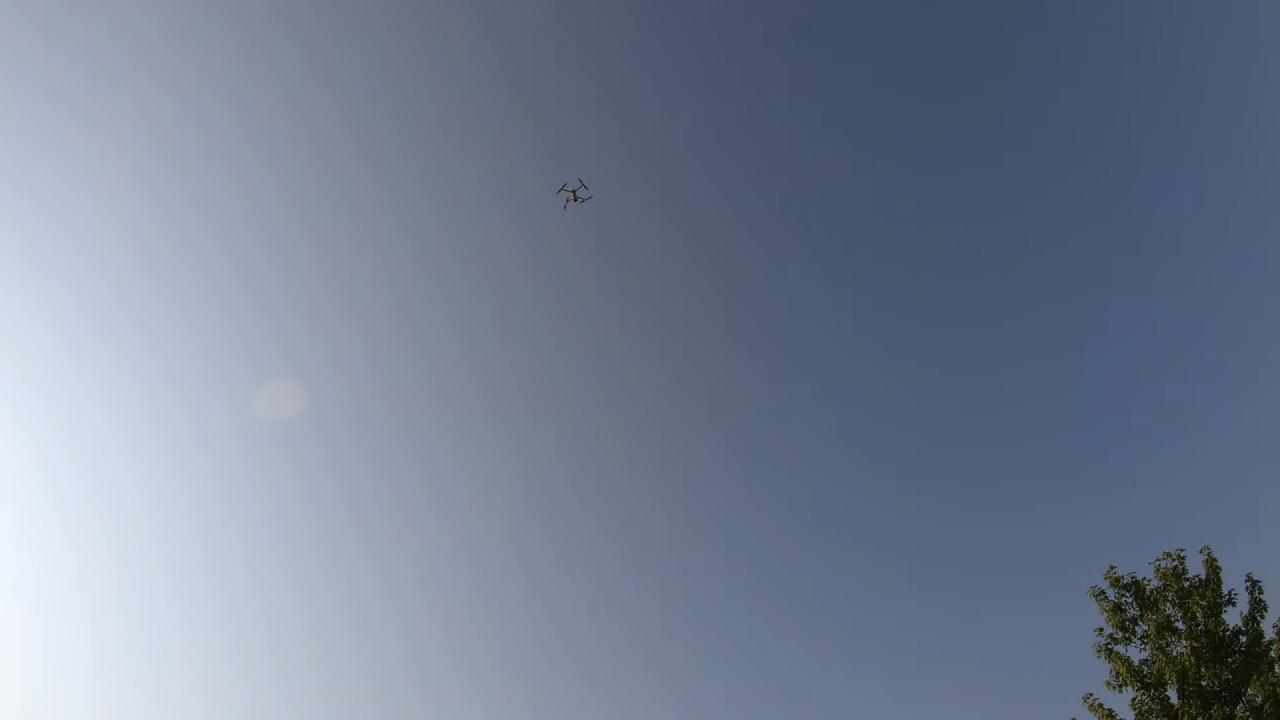Drone: (546, 168, 601, 220)
